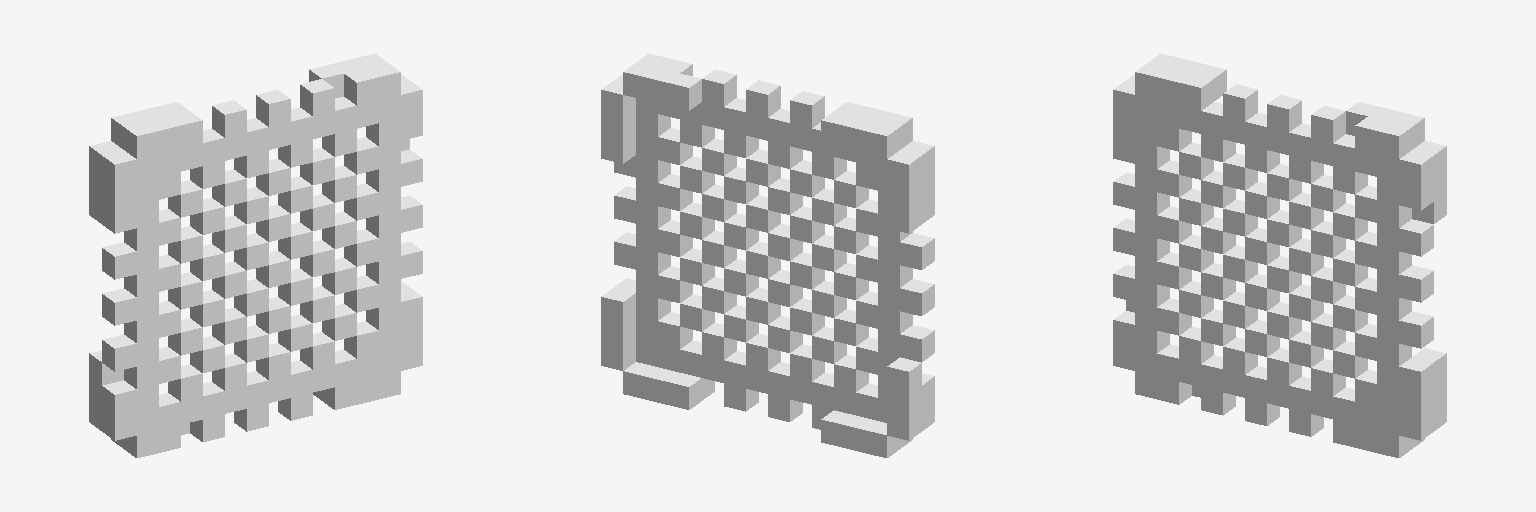
File: grate_zp.obj
3 renders of one model, left to right at view 1: azimuth 30°, elevation 25°; view 2: azimuth 150°, elevation 25°; view 3: azimuth 330°, elevation 25°, orthographic.
Size of the model in its own units: 14 by 14 by 2.